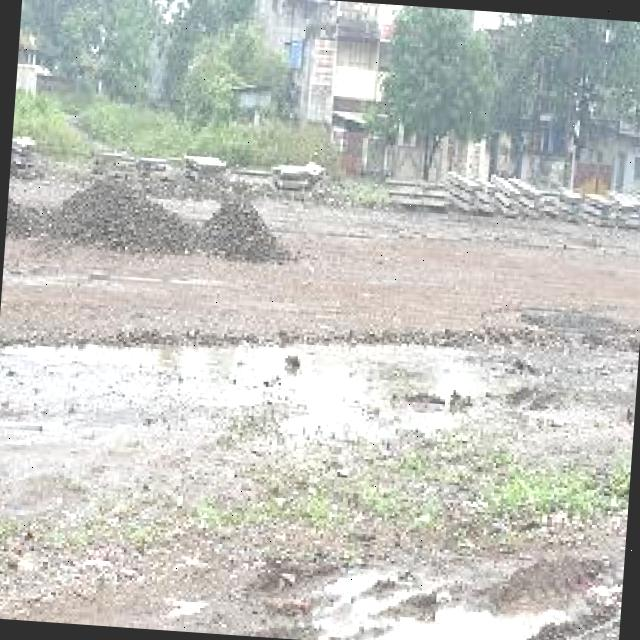stagnation: (286, 562, 561, 640)
